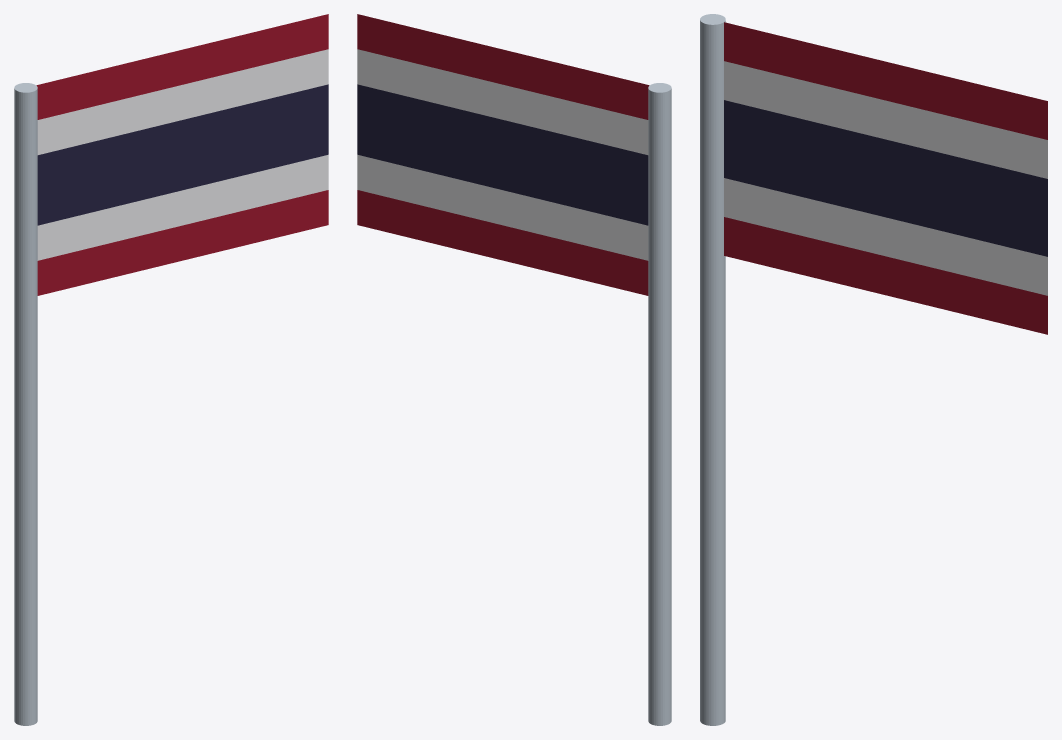
File: Flag.glb
3 views of the same model, side by side, from view 1: azimuth 30°, elevation 25°; view 2: azimuth 150°, elevation 25°; view 3: azimuth 330°, elevation 25° (orthographic). The views are drawn at different scales.
Parts seen in each view (by area): view 1: Cylinder.001, Cylinder; view 2: Cylinder.001, Cylinder; view 3: Cylinder.001, Cylinder.
Boxes of the visible parts, x1,y1,x2,y2 form: Cylinder.001: (36,14,328,295); Cylinder: (14,83,37,725); Cylinder.001: (357,14,649,295); Cylinder: (648,83,671,725); Cylinder.001: (724,22,1047,334); Cylinder: (700,14,725,725).
Bounding box in the file's own units: 2.65 × 5.13 × 0.1709.
